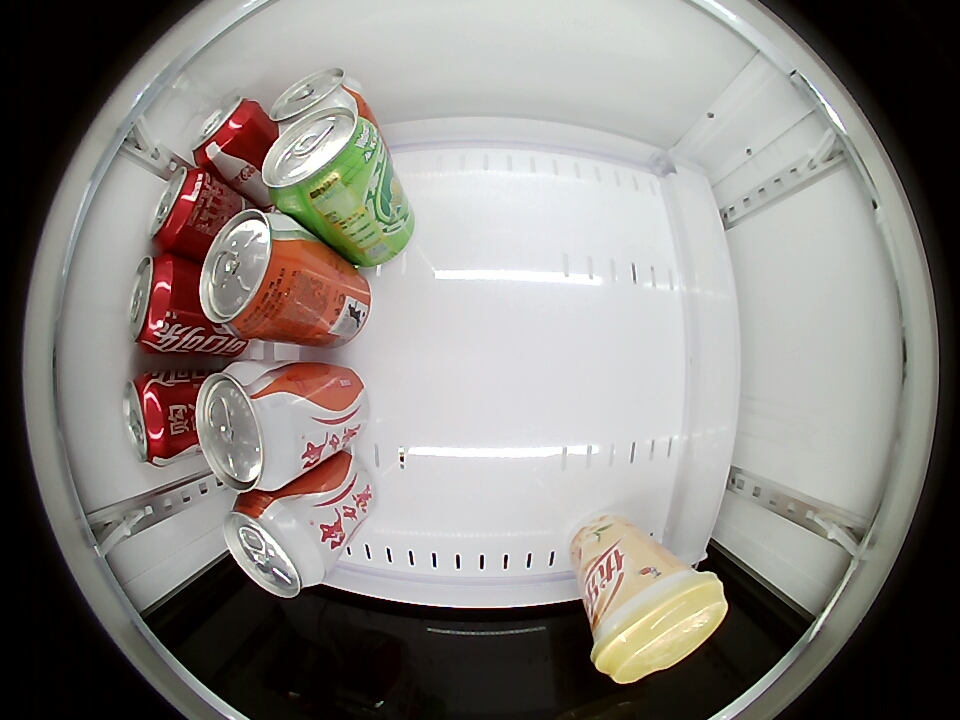jianlibao: (198, 209, 303, 336), (194, 362, 295, 493), (223, 491, 330, 599), (268, 68, 362, 130)
kele: (127, 254, 183, 351), (122, 372, 179, 466), (149, 166, 212, 251), (190, 95, 260, 168)
quchenshixiangcao: (261, 106, 378, 217)
youlemei: (589, 562, 728, 685)
